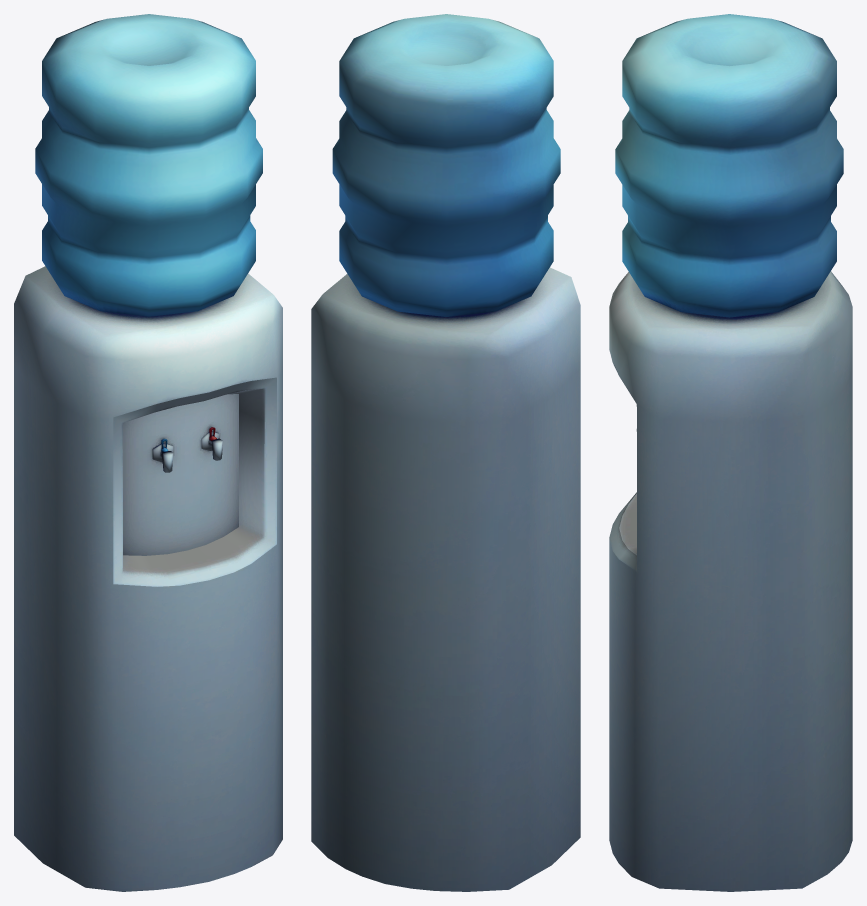
The model's file is SM_Water_Dispenser.FBX.
3 renders of one model, left to right at view 1: azimuth 30°, elevation 25°; view 2: azimuth 150°, elevation 25°; view 3: azimuth 270°, elevation 25°, orthographic.
Parts seen in each view (by area): view 1: SM_Water_Dispenser; view 2: SM_Water_Dispenser; view 3: SM_Water_Dispenser.
Boxes of the visible parts, <box> form: SM_Water_Dispenser: <box>14,14,282,891</box>; SM_Water_Dispenser: <box>311,14,580,891</box>; SM_Water_Dispenser: <box>609,14,852,891</box>.
Bounding box in the file's own units: 43.25 × 43 × 155.
